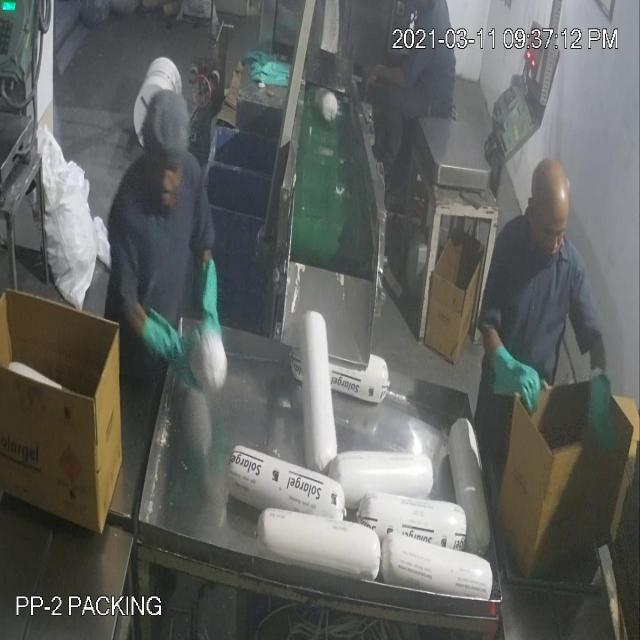Gloves: (40, 65, 596, 408)
